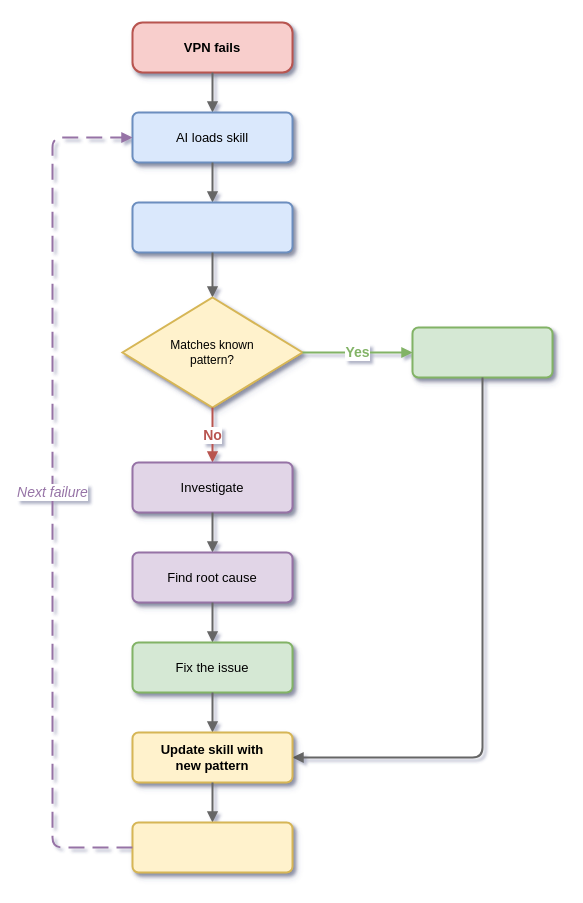
Some shapes in this 583 by 903 pixel diagram are drawn without their labels. Here are the shapes that lost their labels. From the top down, the centre of each, then its label:
At point (213, 228): "Follows diagnostic workflow".
At point (483, 353): "Apply fix".
At point (213, 848): "Update documentation".
